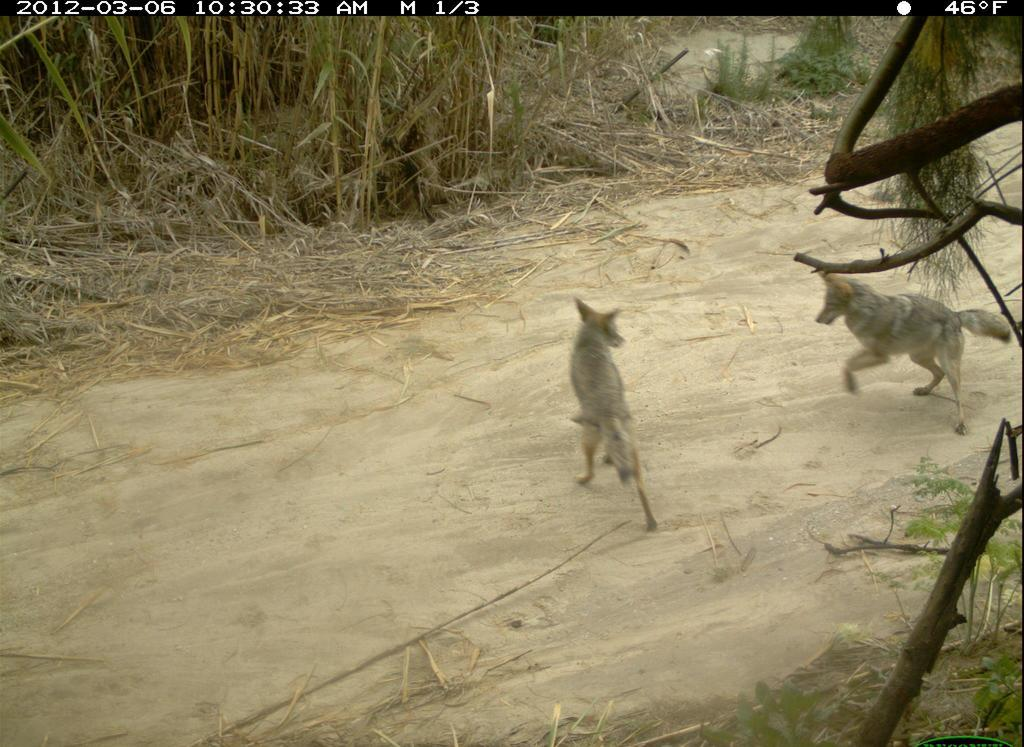coyote: (812, 263, 1016, 441), (568, 289, 665, 534)
